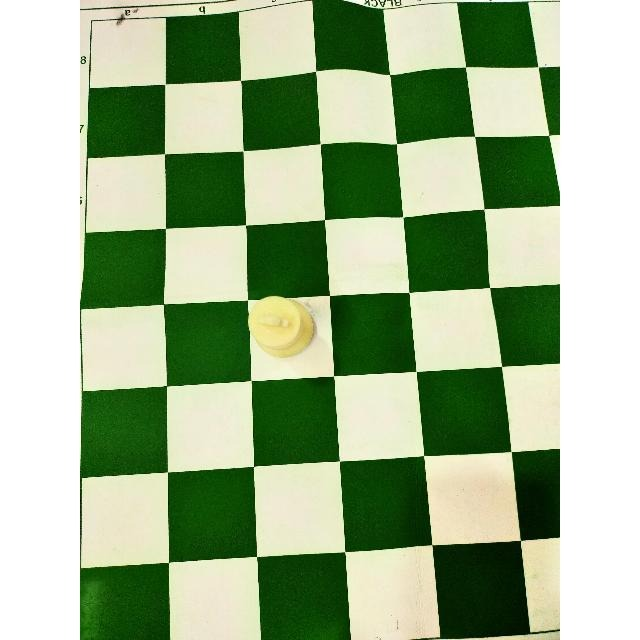white-king: (245, 286, 316, 362)
